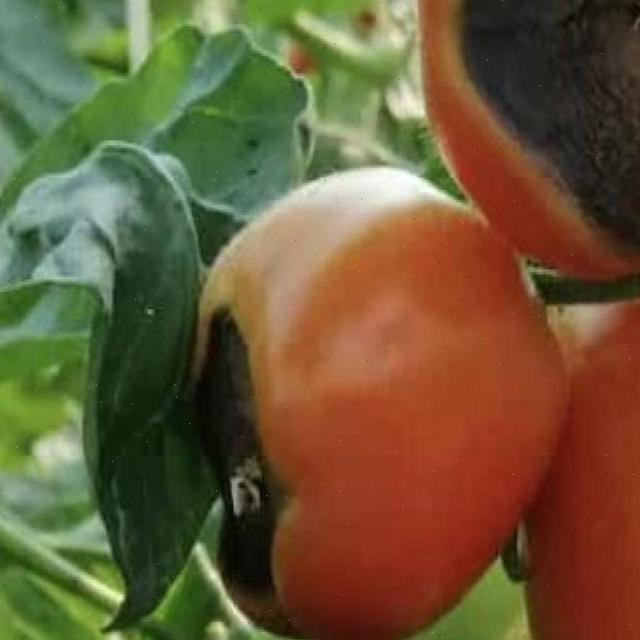Blossom End Rot Fruit: (124, 189, 198, 427)
